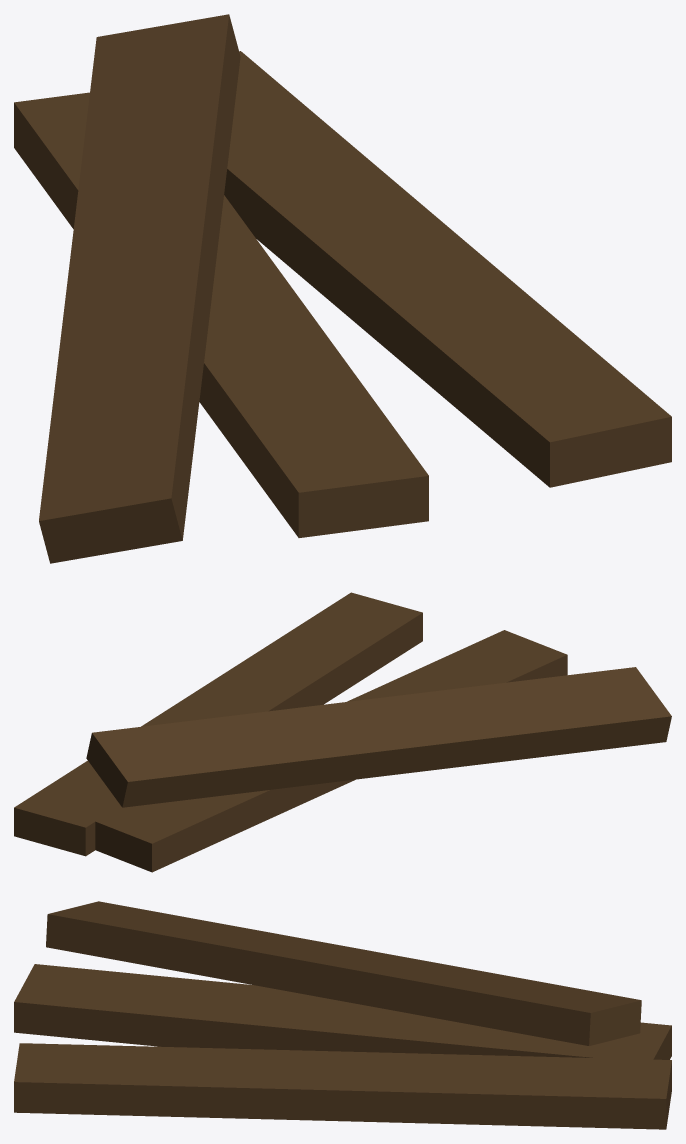
The model's file is SM_Plank_Pile.fbx.
The picture shows the model from 3 angles, top to bottom: view 1: azimuth 30°, elevation 25°; view 2: azimuth 150°, elevation 25°; view 3: azimuth 270°, elevation 25°; orthographic projection. The views are drawn at different scales.
Visible parts, largest first — view 1: SM_Plank_Pile; view 2: SM_Plank_Pile; view 3: SM_Plank_Pile.
Part boxes in pixels (x1,y1,x2,y2): SM_Plank_Pile: (14,14,671,563); SM_Plank_Pile: (14,592,671,872); SM_Plank_Pile: (14,901,671,1129).
Size of the model in its own units: 0.6749 by 0.1549 by 0.9147.
